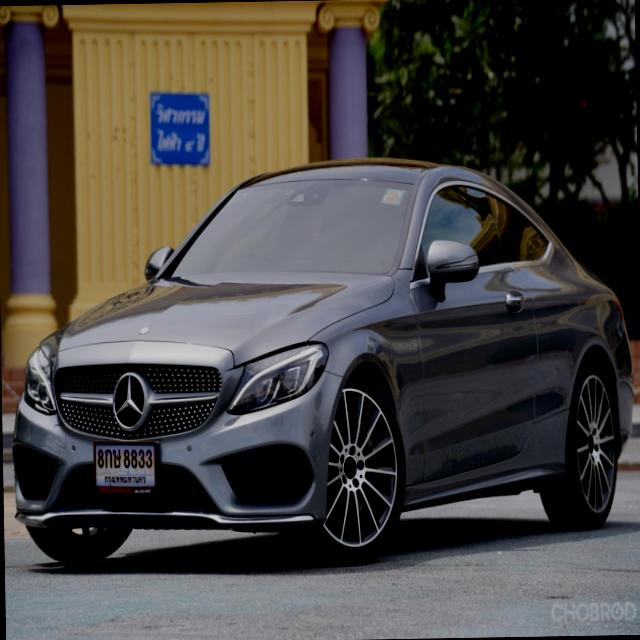license_plate: (92, 438, 160, 497)
